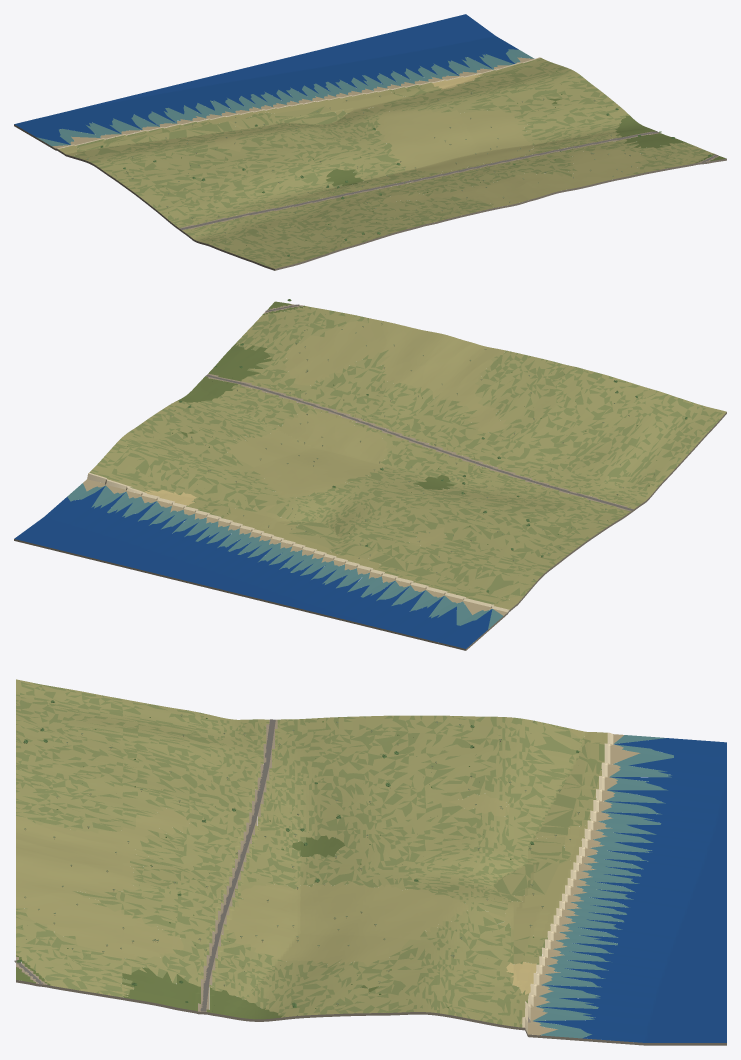
File: parca_+6_+2-yakin.glb
3 renders of one model, top to bottom at view 1: azimuth 30°, elevation 25°; view 2: azimuth 150°, elevation 25°; view 3: azimuth 270°, elevation 25°, orthographic. The views are drawn at different scales.
Visible parts, largest first — view 1: parca_+6_+2_arazi, parca_+6_+2_yollar, parca_+6_+2_bitkiler; view 2: parca_+6_+2_arazi, parca_+6_+2_yollar, parca_+6_+2_bitkiler; view 3: parca_+6_+2_arazi, parca_+6_+2_yollar, parca_+6_+2_bitkiler.
Boxes of the visible parts, <box> form: parca_+6_+2_arazi: <box>14,14,726,270</box>; parca_+6_+2_yollar: <box>180,131,718,229</box>; parca_+6_+2_bitkiler: <box>87,68,711,258</box>; parca_+6_+2_arazi: <box>14,301,726,650</box>; parca_+6_+2_yollar: <box>206,304,633,510</box>; parca_+6_+2_bitkiler: <box>119,299,687,594</box>; parca_+6_+2_arazi: <box>16,679,726,1045</box>; parca_+6_+2_yollar: <box>14,719,275,1011</box>; parca_+6_+2_bitkiler: <box>16,700,601,1015</box>.
Size of the model in its own units: 1002 by 120 by 1003.
